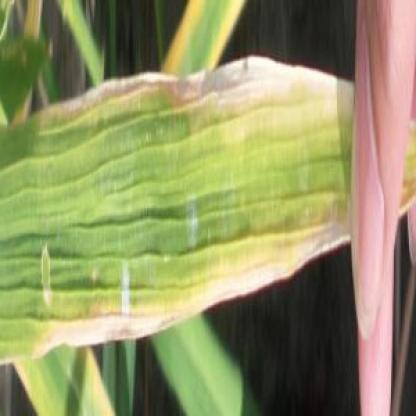Blight: (43, 211, 349, 373), (31, 51, 352, 128)
